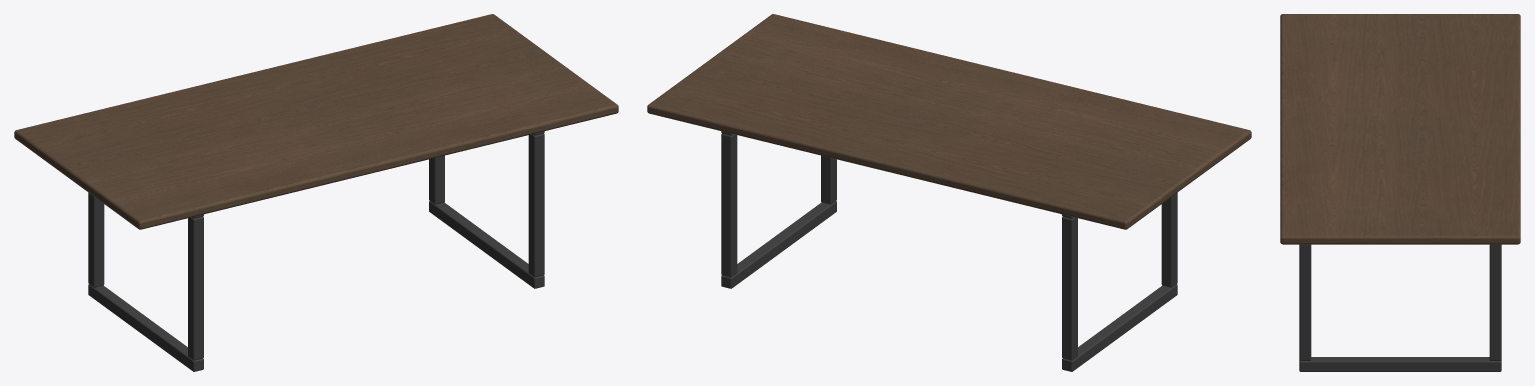
File: dining_table_walnut.gltf
3 views of the same model, side by side, from view 1: azimuth 30°, elevation 25°; view 2: azimuth 150°, elevation 25°; view 3: azimuth 270°, elevation 25° (orthographic). The views are drawn at different scales.
Visible parts, largest first — view 1: walnut_veneer, black_metal; view 2: walnut_veneer, black_metal; view 3: walnut_veneer, black_metal.
Part boxes in pixels (bbox=[...]): walnut_veneer: bbox=[14, 14, 618, 229]; black_metal: bbox=[88, 131, 544, 371]; walnut_veneer: bbox=[647, 14, 1251, 229]; black_metal: bbox=[721, 131, 1177, 371]; walnut_veneer: bbox=[1280, 14, 1520, 244]; black_metal: bbox=[1299, 244, 1501, 371].
Size of the model in its own units: 2.2 by 0.76 by 1.
Materials: 2 (1 with a texture image).
